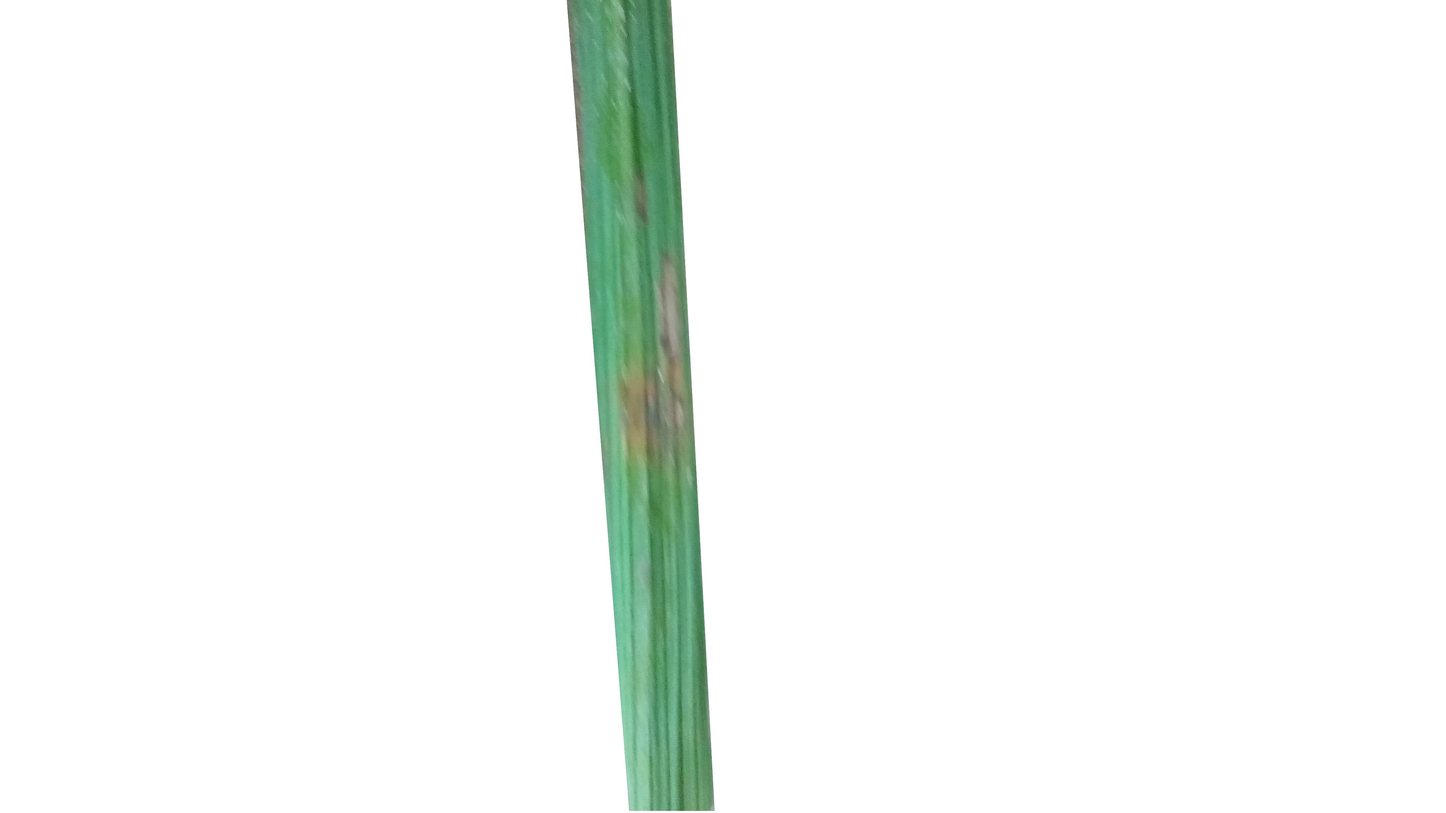Rice blast: (615, 233, 676, 509), (626, 174, 655, 228)
